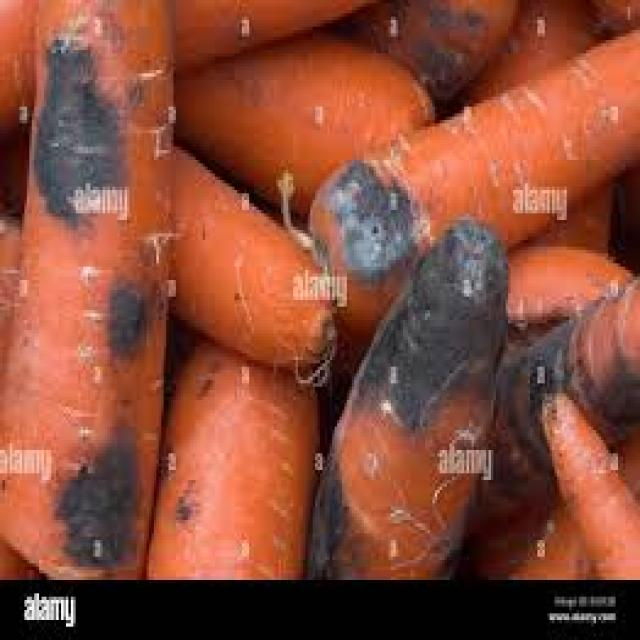Stale_Carrot: (29, 4, 150, 594), (372, 224, 528, 421), (498, 286, 626, 500), (271, 418, 361, 592), (321, 156, 427, 278)
